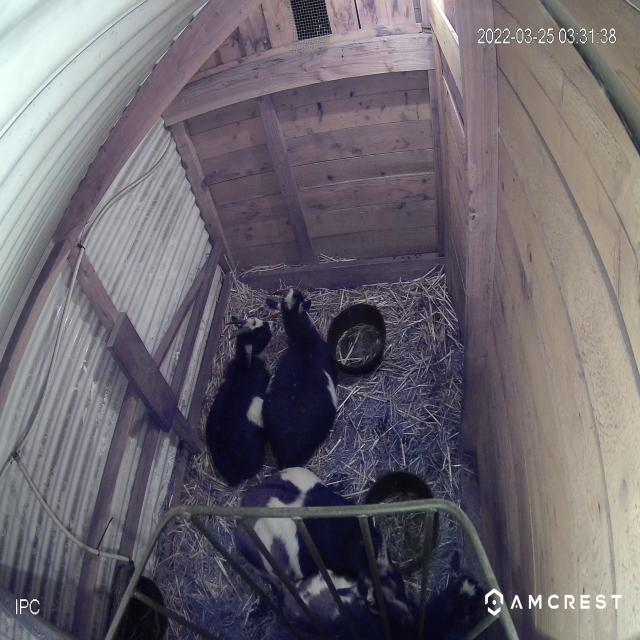goat: (228, 461, 400, 592), (288, 548, 493, 640), (264, 275, 341, 471), (203, 311, 276, 484)
